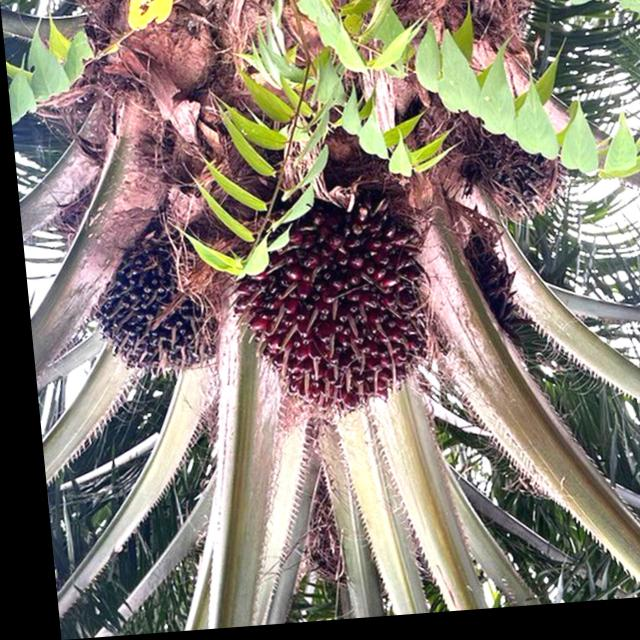ripe: (209, 193, 439, 435), (68, 242, 225, 388)
